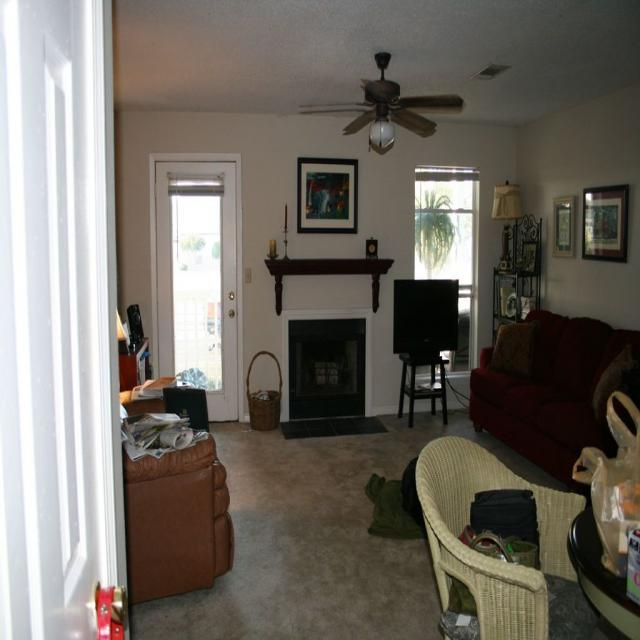fan_off: (304, 38, 466, 136)
